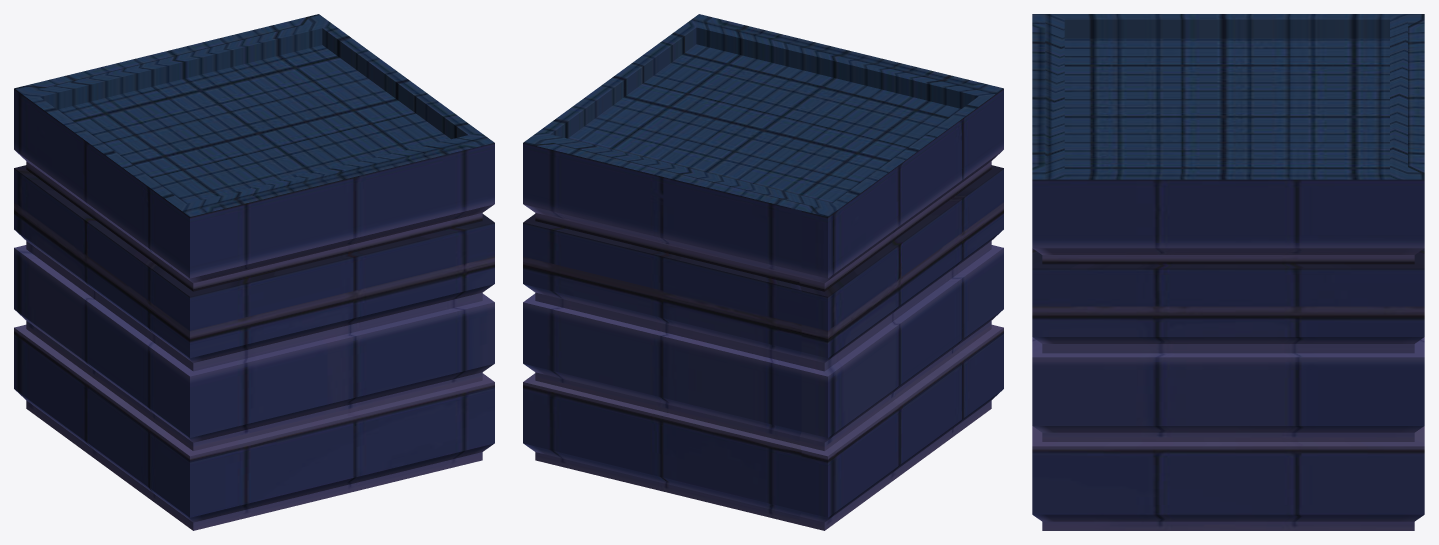
Rendered from BlueIndentBuilding.fbx.
3 renders of one model, left to right at view 1: azimuth 30°, elevation 25°; view 2: azimuth 150°, elevation 25°; view 3: azimuth 270°, elevation 25°, orthographic. The views are drawn at different scales.
Parts seen in each view (by area): view 1: buildingStack2; view 2: buildingStack2; view 3: buildingStack2.
Part boxes in pixels (<box>): buildingStack2: <box>14,14,494,530</box>; buildingStack2: <box>523,14,1003,530</box>; buildingStack2: <box>1032,14,1424,530</box>.
Size of the model in its own units: 5 by 5 by 5.
1 material, 1 textured.
